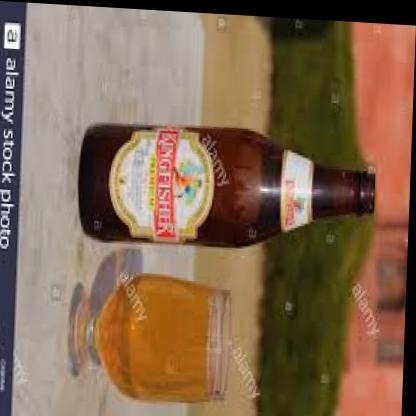trash: (79, 125, 374, 245)
